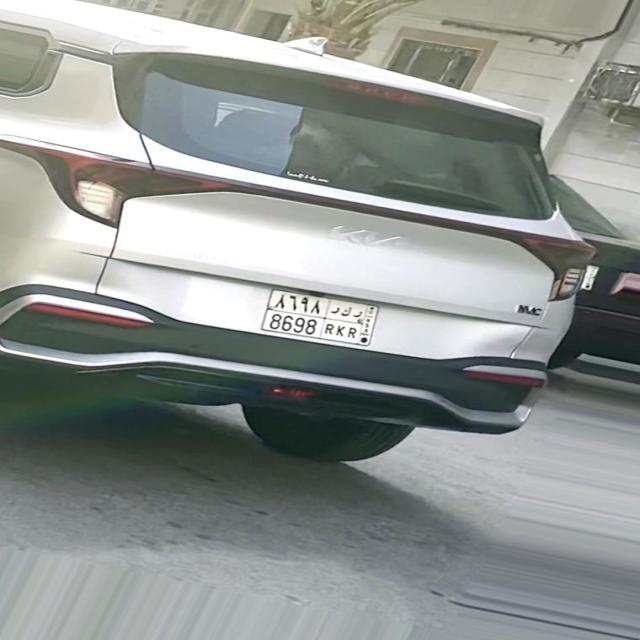Car-plate: (249, 284, 402, 352)
